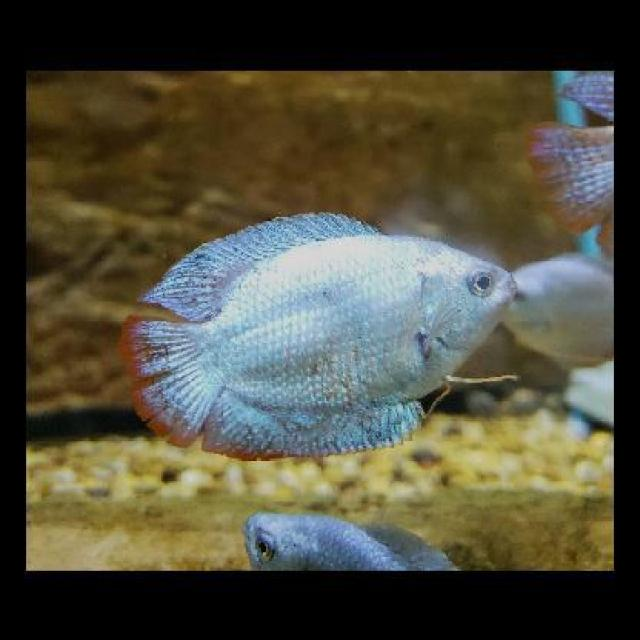Gourami: (132, 211, 514, 454)
